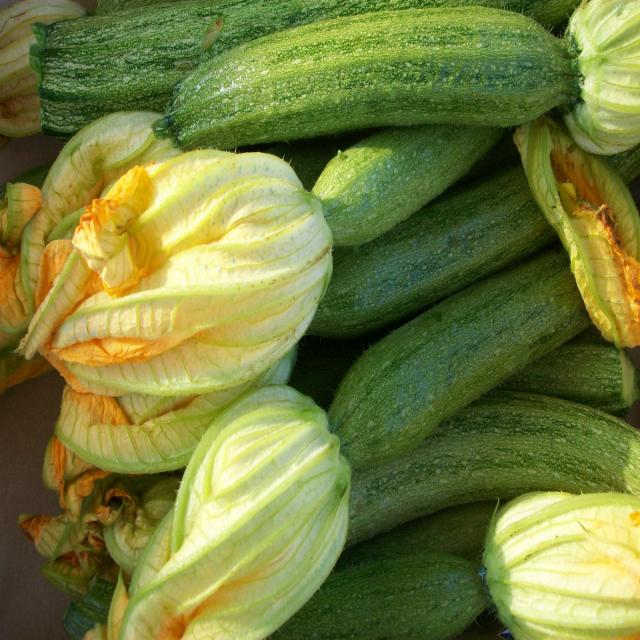Zucchini: (173, 3, 570, 143)
